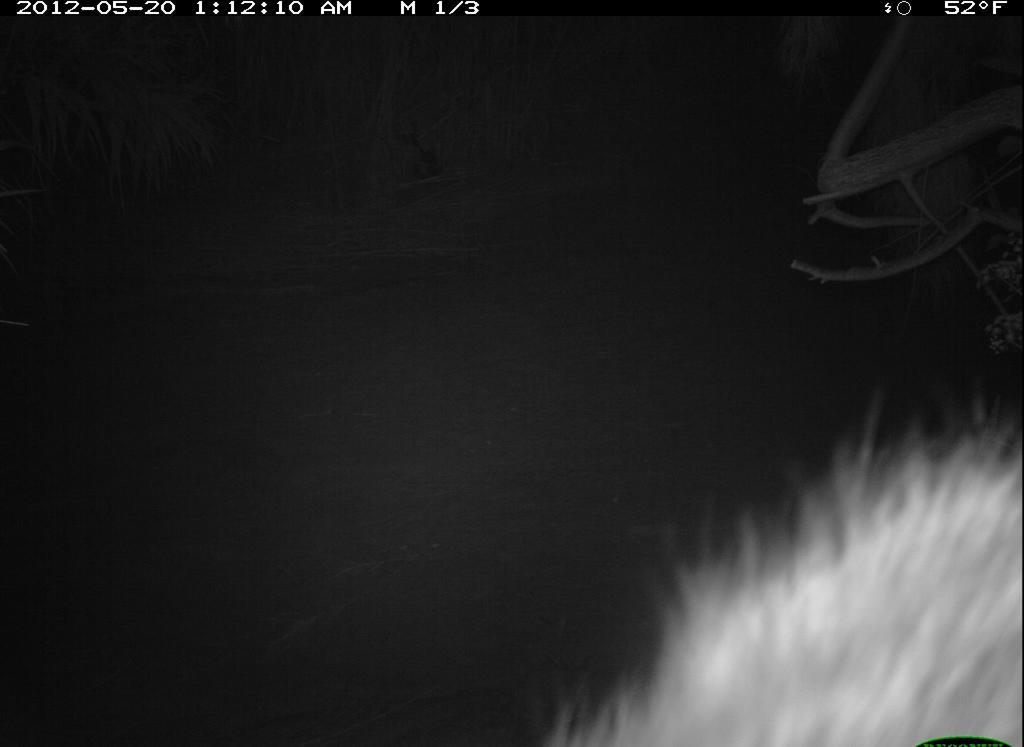raccoon: (559, 423, 1021, 747)
